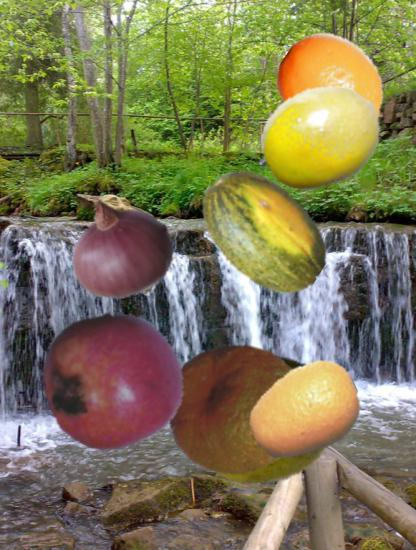Guava: (198, 357, 335, 494)
Kumquats: (248, 354, 362, 468)
Lemon: (276, 30, 391, 145)
Mandarine: (167, 340, 306, 479)
Maracuja: (256, 75, 383, 202)
Melon: (193, 160, 335, 302)
Onion: (61, 193, 183, 315)
Pomegranate: (42, 310, 185, 453)
